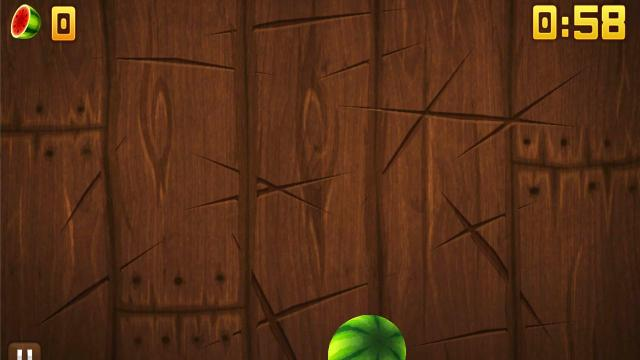fruit: (328, 314, 406, 360)
ignore: (9, 4, 43, 40)
